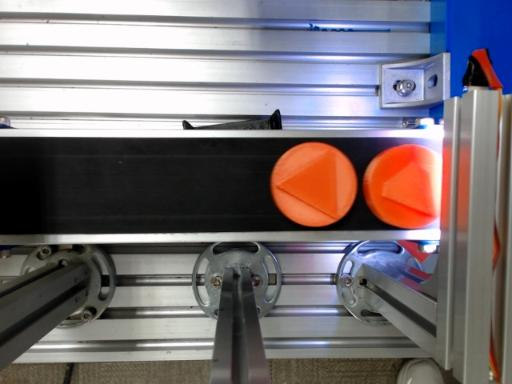Orange_Waper: (270, 142, 357, 226), (364, 144, 440, 228)
